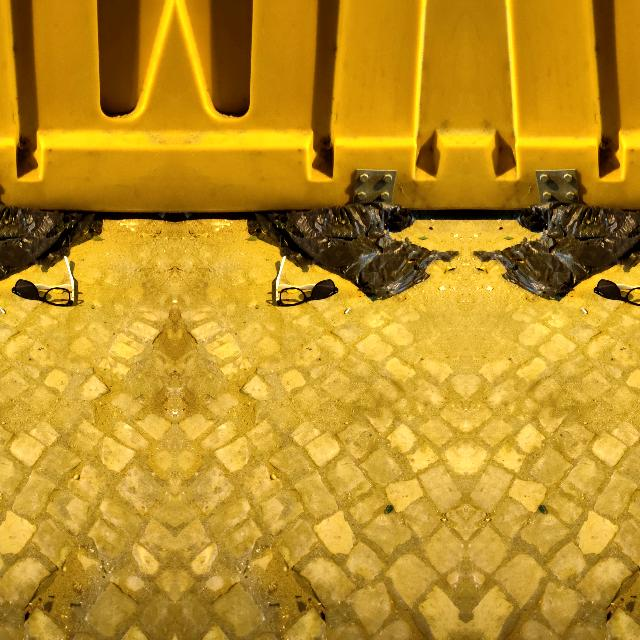Plastic: (242, 200, 462, 304), (468, 200, 640, 304), (0, 200, 106, 304), (270, 252, 338, 308), (10, 252, 78, 308), (593, 252, 640, 307)
